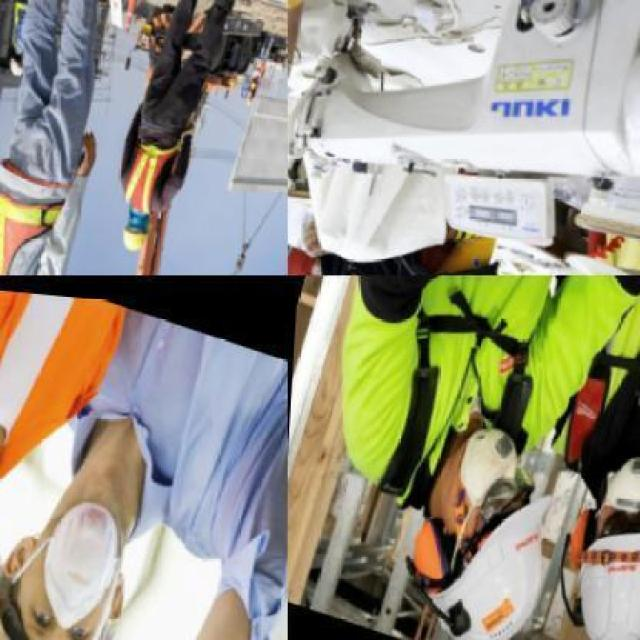helmet: (405, 504, 571, 638), (110, 230, 152, 252)
